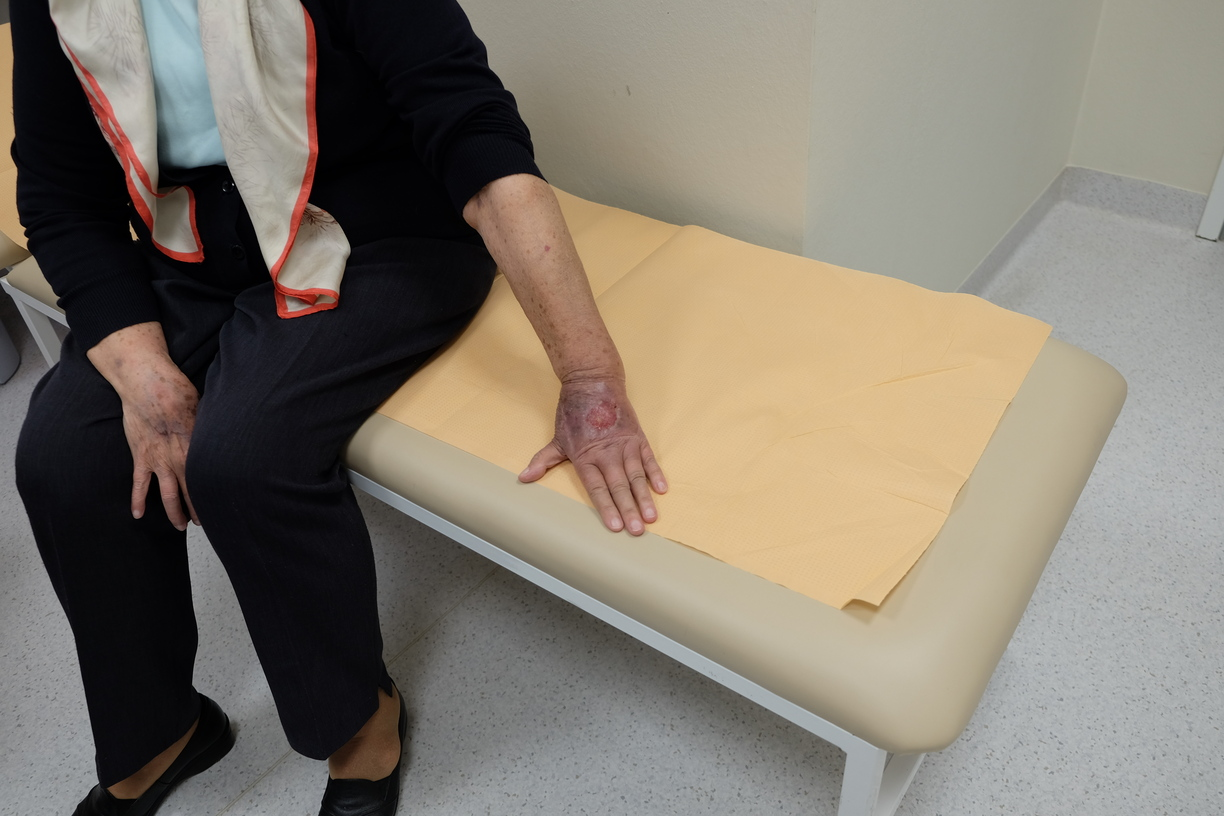wound: (577, 392, 622, 436)
